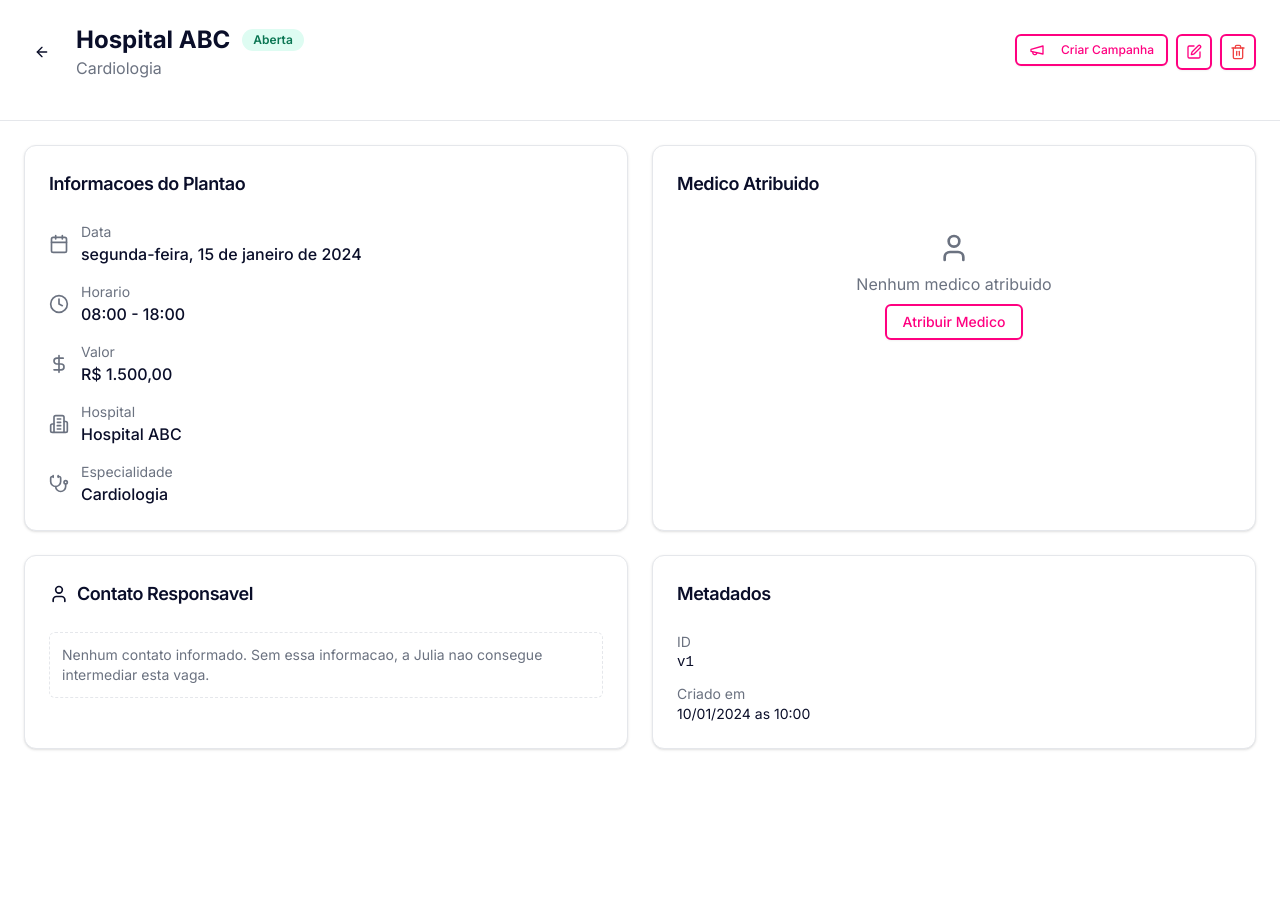
Test: ShiftDetailPage › botão Criar Campanha (Sprint 58) › deve abrir wizard ao clicar no botão
Click the button "Criar Campanha": (1091, 50) [1015,34,1168,66]
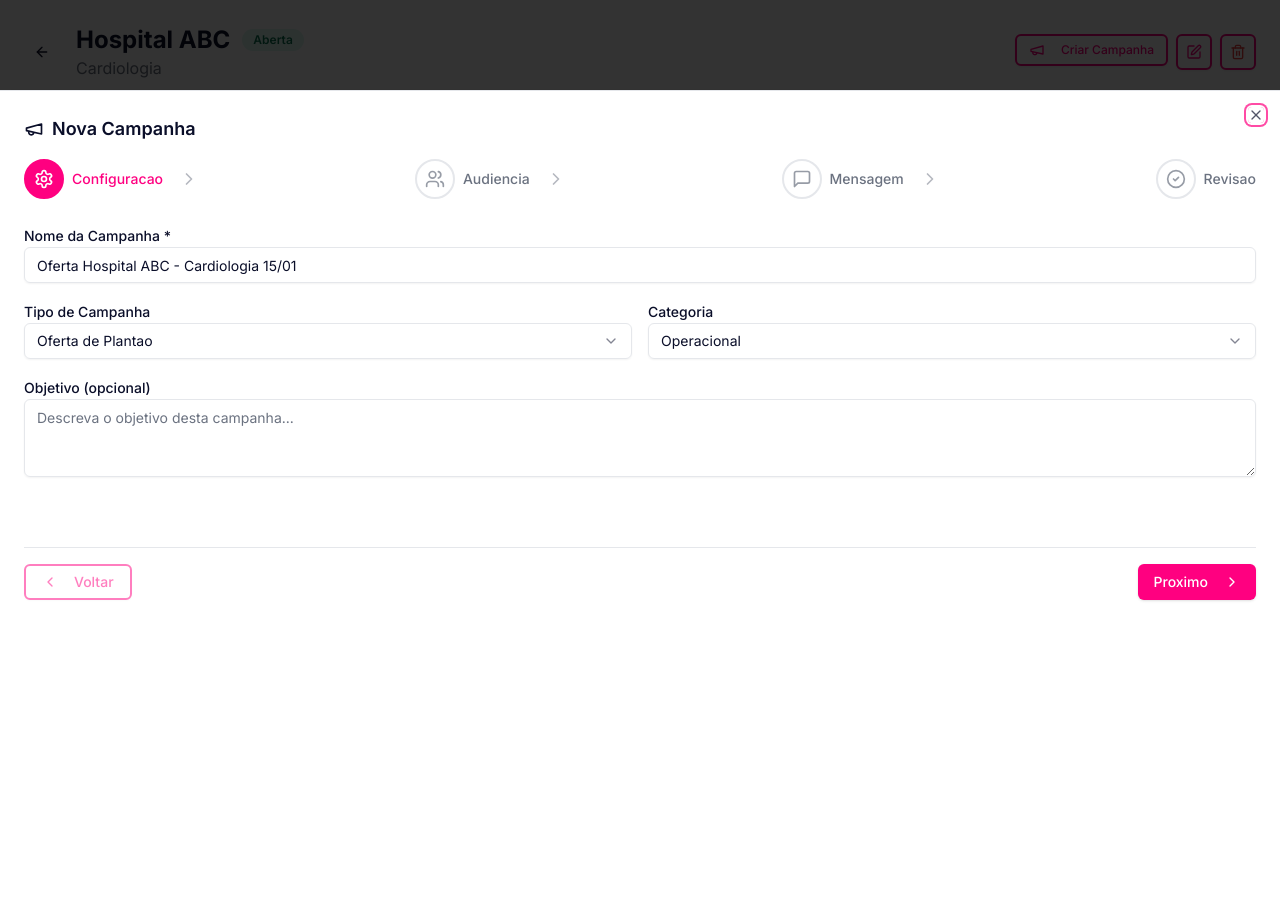
Now the heading "Nova Campanha" is shown, box [24,118,196,139]
